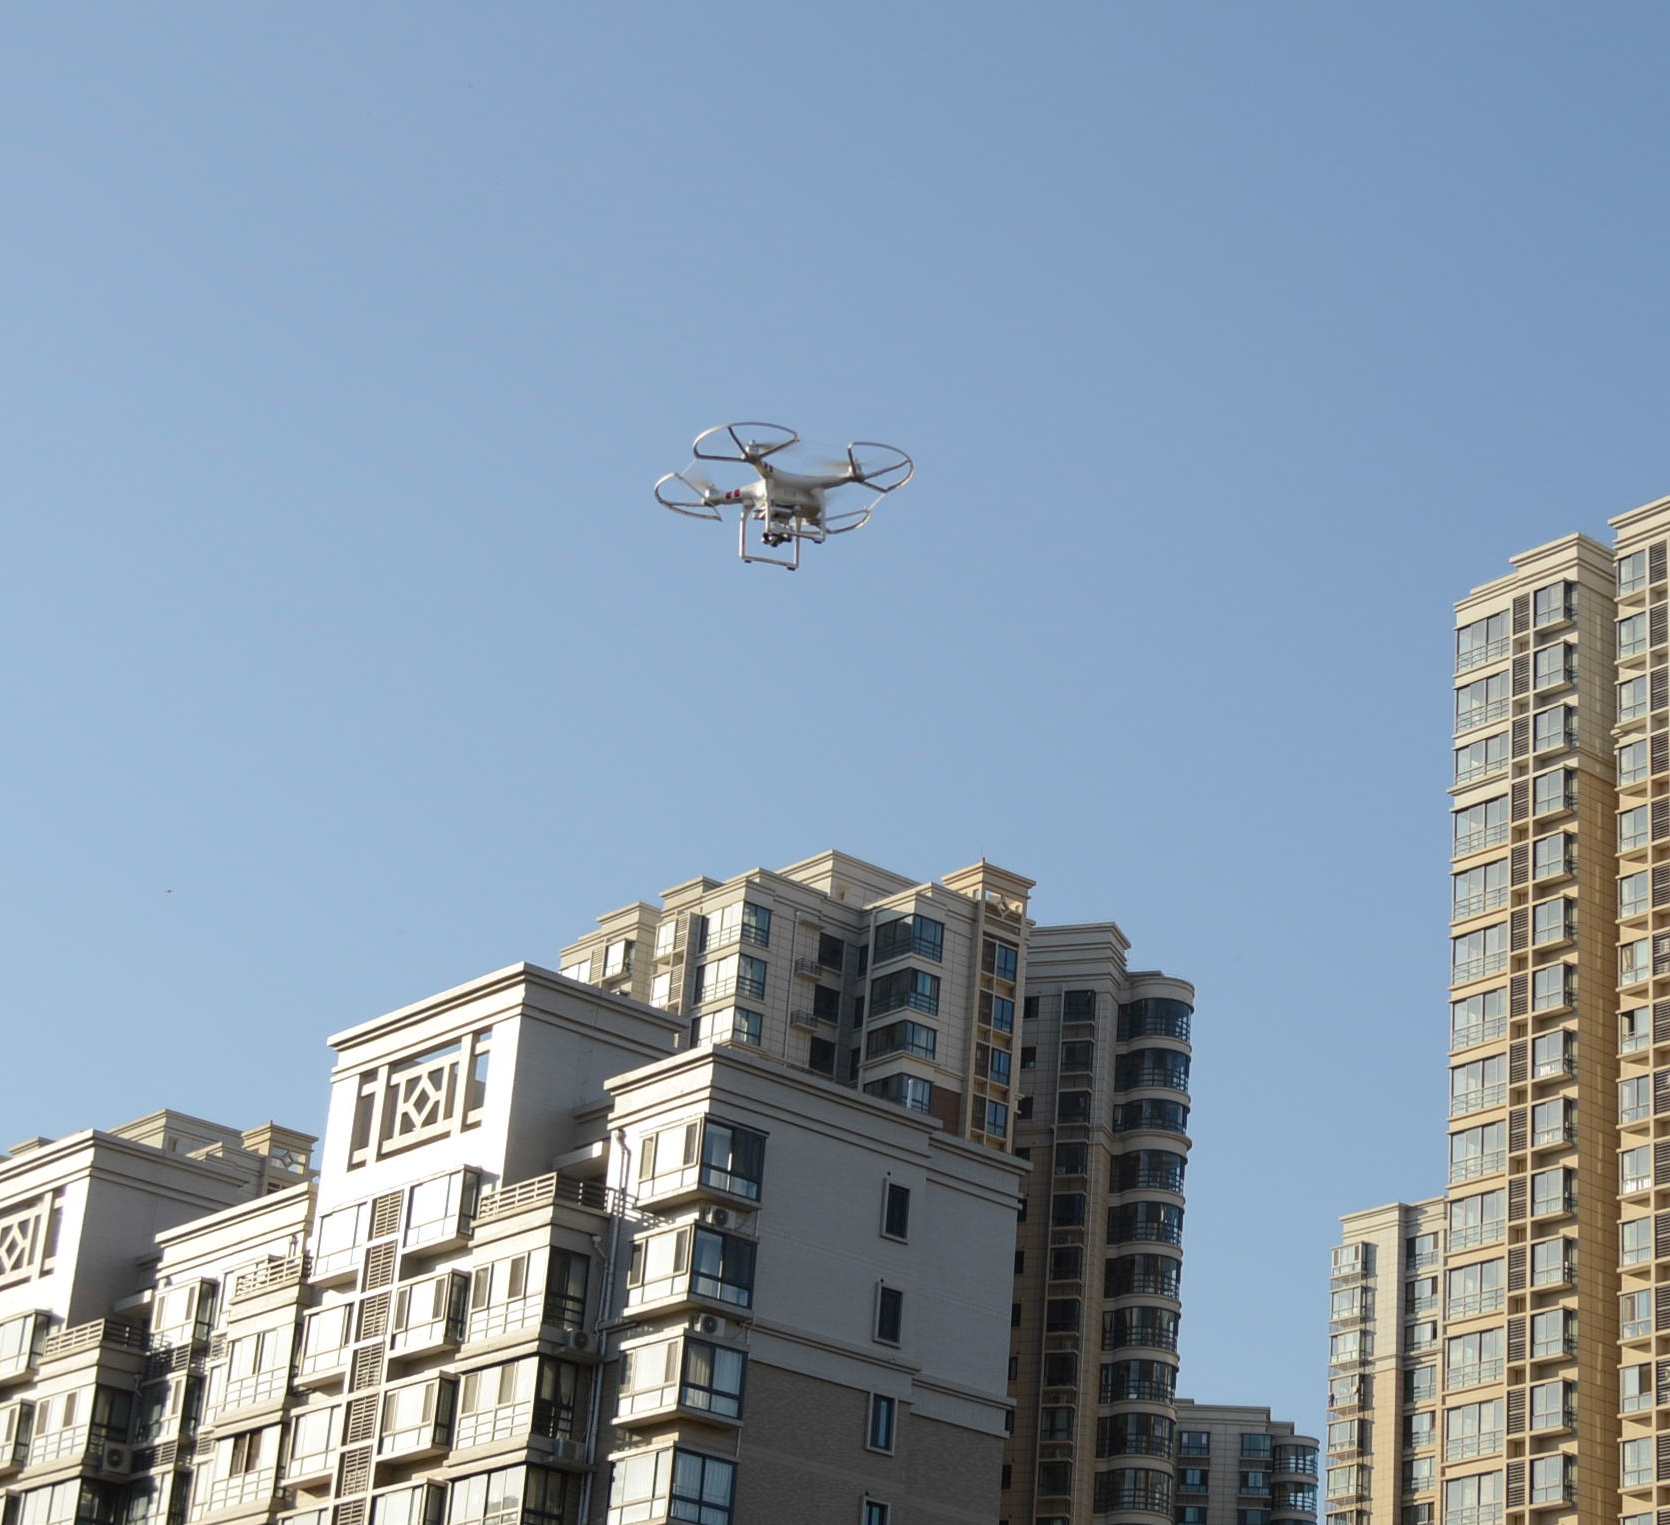DJI: (649, 412, 914, 573)
